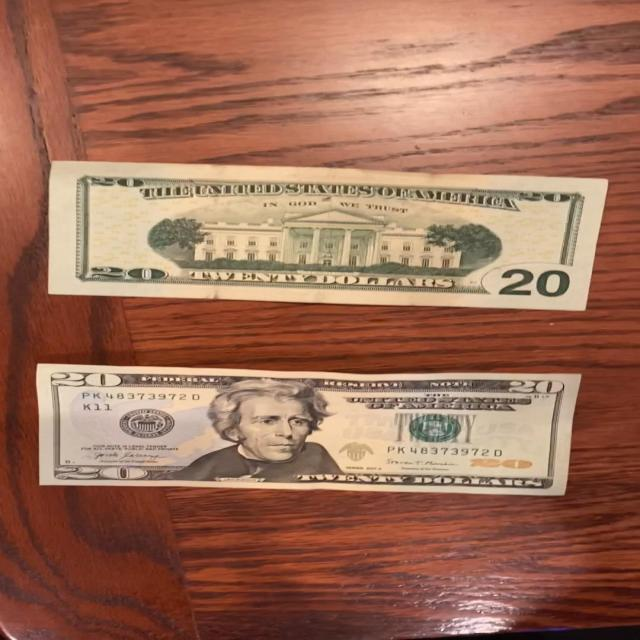20-Back: (43, 157, 619, 315)
20-Front: (36, 357, 600, 495)
